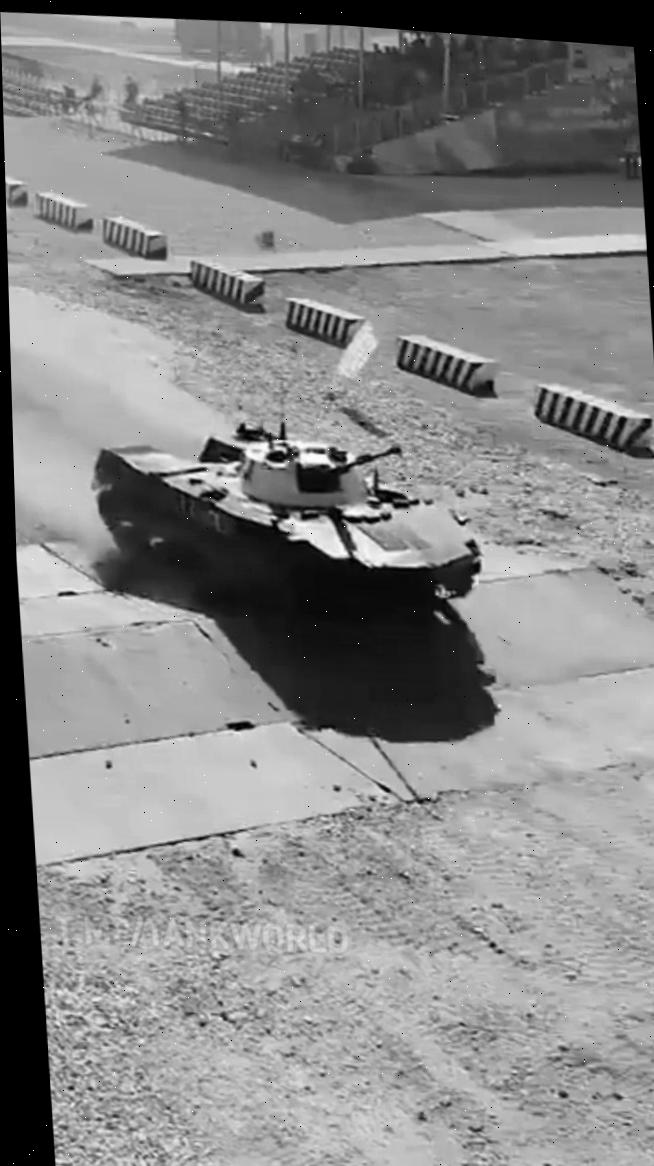tank: (87, 400, 485, 647)
